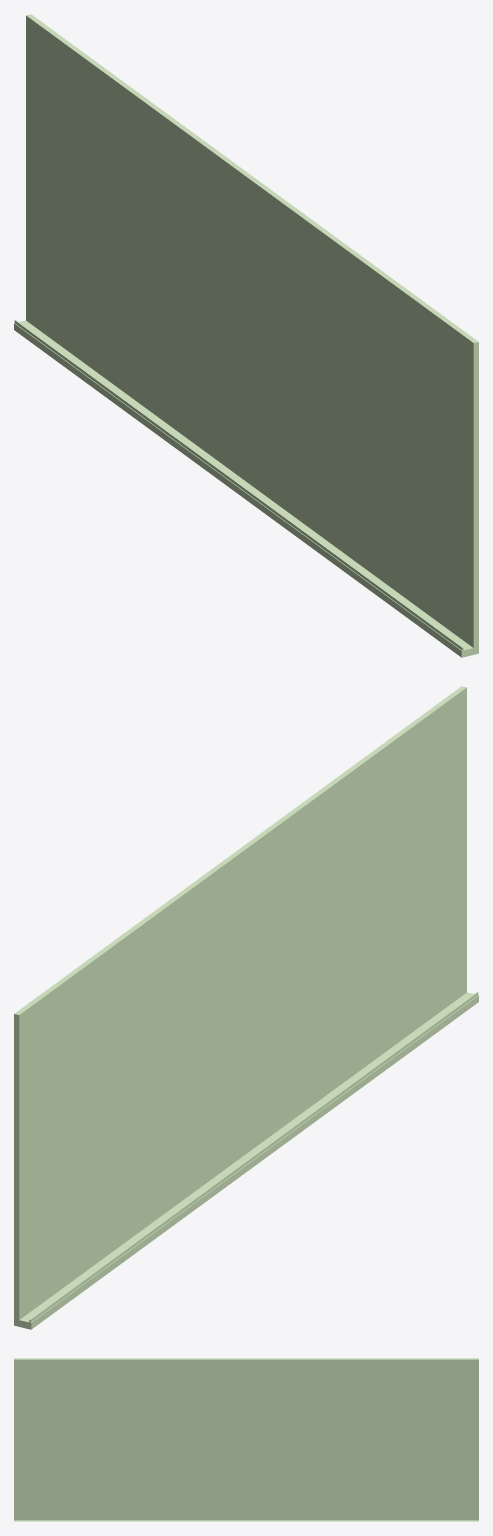
The model's file is SM_BoardSmall.fbx.
3 views of the same model, one above another, from view 1: azimuth 30°, elevation 25°; view 2: azimuth 150°, elevation 25°; view 3: azimuth 270°, elevation 25° (orthographic). The views are drawn at different scales.
Visible parts, largest first — view 1: BoardSmall; view 2: BoardSmall; view 3: BoardSmall.
Boxes of the visible parts, x1,y1,x2,y2 form: BoardSmall: (14,14,478,657); BoardSmall: (14,686,478,1329); BoardSmall: (14,1358,478,1521).
Size of the model in its own units: 6.65 by 115 by 300.
